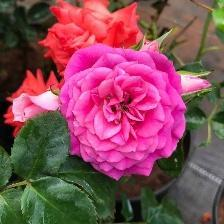rose: (58, 41, 188, 183)
